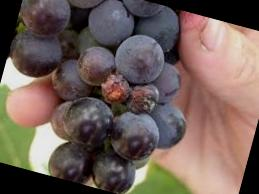Grape Rotten: (0, 0, 215, 194)
